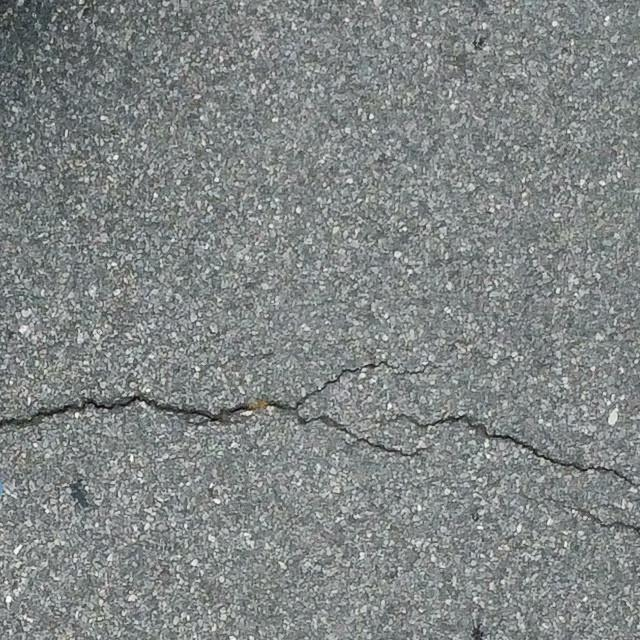TransverseCrack: (1, 361, 429, 458), (384, 409, 640, 487), (524, 492, 640, 533)
